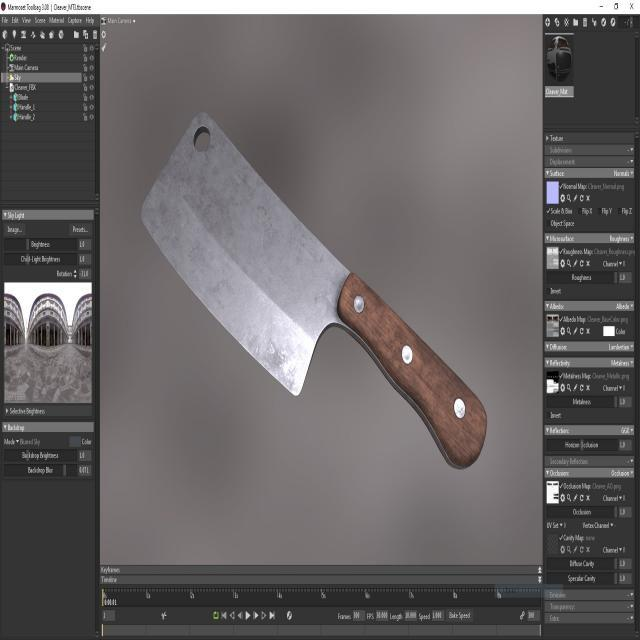cleaver: (138, 104, 492, 478)
